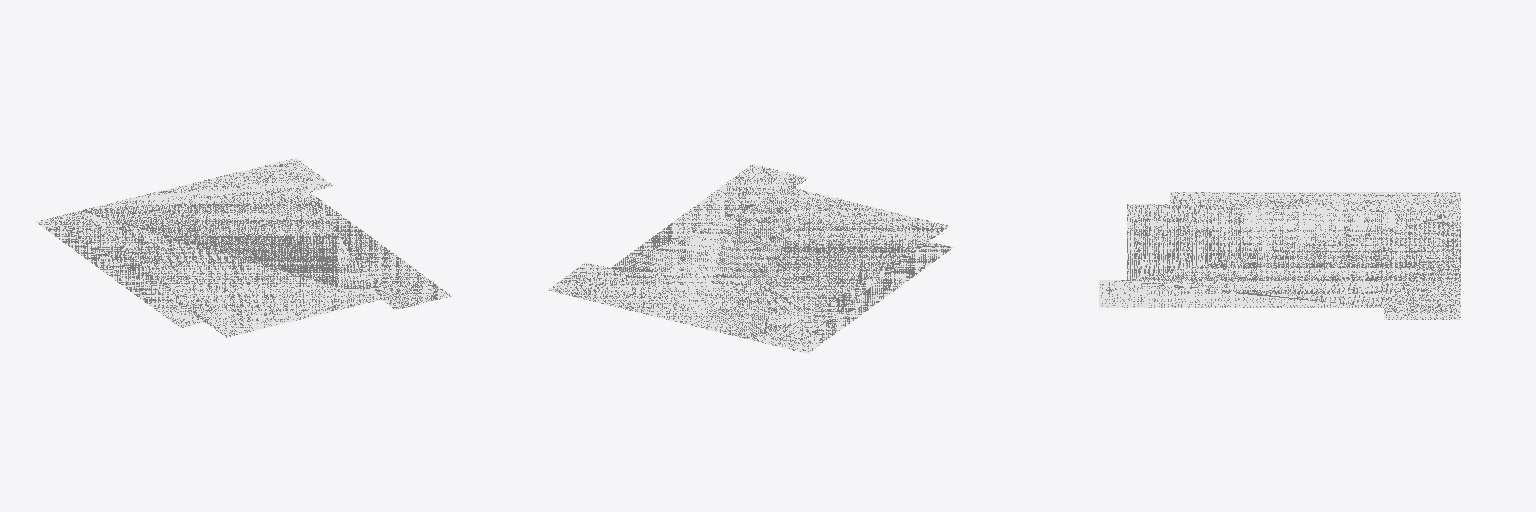
Rendered from Floor_Final.obj.
3 renders of one model, left to right at view 1: azimuth 30°, elevation 25°; view 2: azimuth 150°, elevation 25°; view 3: azimuth 270°, elevation 25°, orthographic.
Visible parts, largest first — view 1: Mesh1 Model; view 2: Mesh1 Model; view 3: Mesh1 Model.
Boxes of the visible parts, x1,y1,x2,y2 form: Mesh1 Model: [36, 158, 451, 337]; Mesh1 Model: [548, 164, 953, 353]; Mesh1 Model: [1099, 192, 1460, 319].
Bounding box in the file's own units: 10 × 0 × 12.